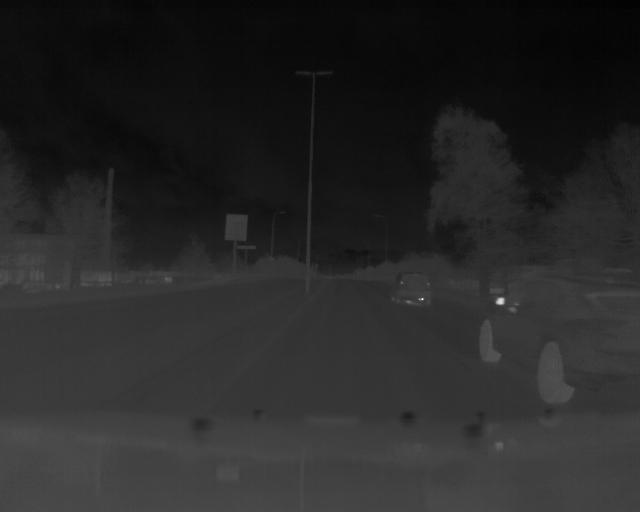car: (471, 278, 640, 405), (388, 265, 439, 308)
